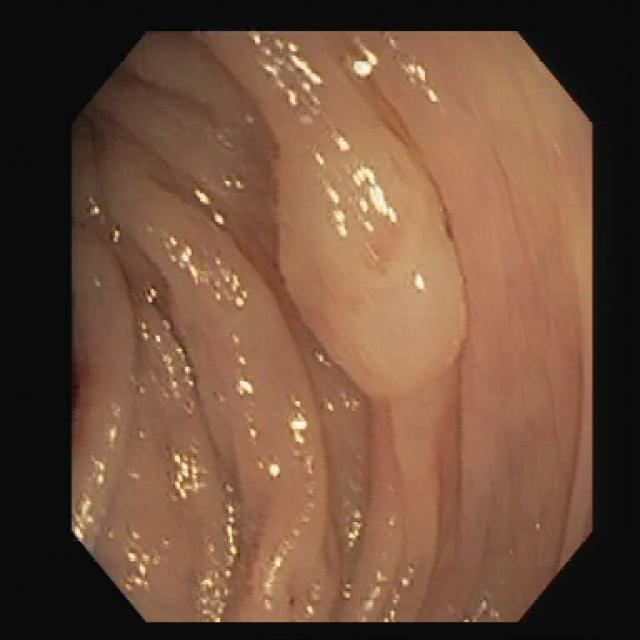tumor: (280, 124, 465, 396)
